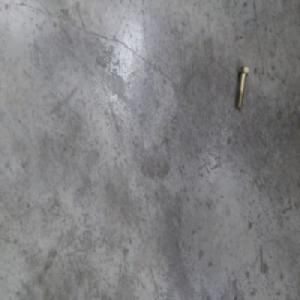Bolt: (233, 61, 246, 106)
